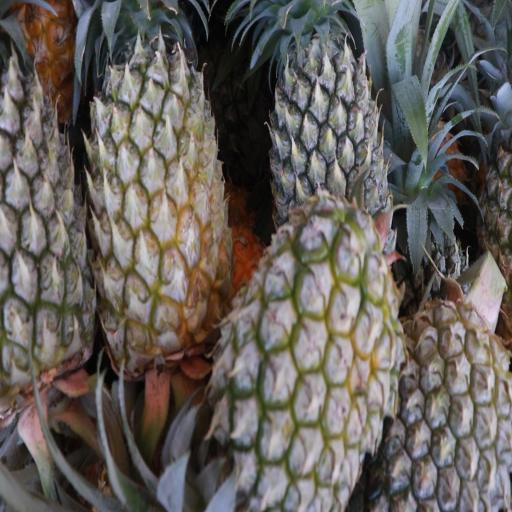------------------------------: (93, 0, 229, 367), (226, 220, 398, 503)
